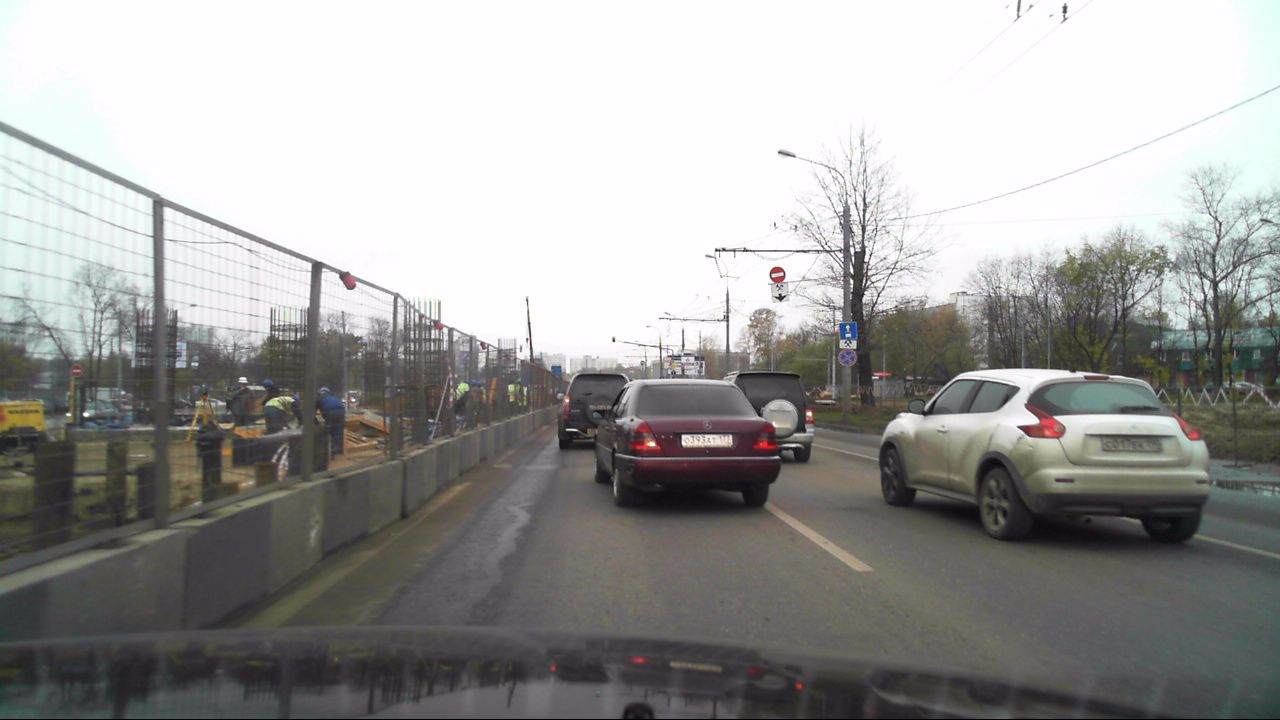No Parking: (838, 350, 857, 367)
